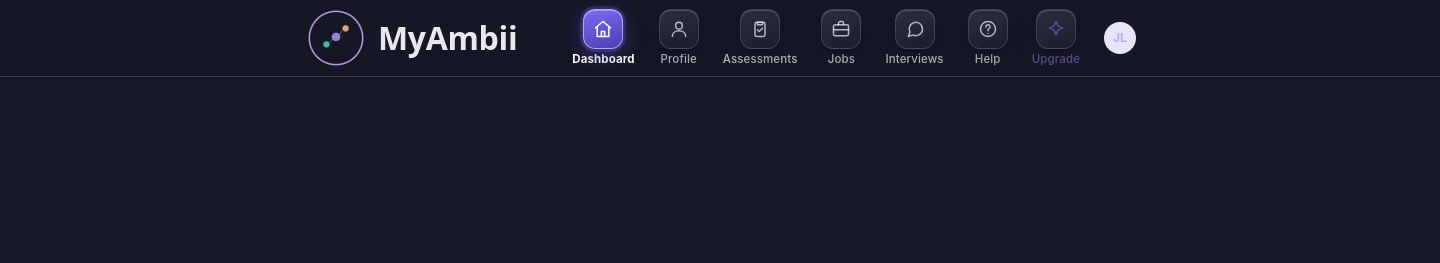
it: CandidateNav › the account menu contains Account, Help and Log out, under the candidate's own name
What coordinates should you click on to do the following:
click the button with aria-label "Jordan Lee menu"
I would click on:
 (1120, 38)
Its box is [1104, 22, 1136, 54].
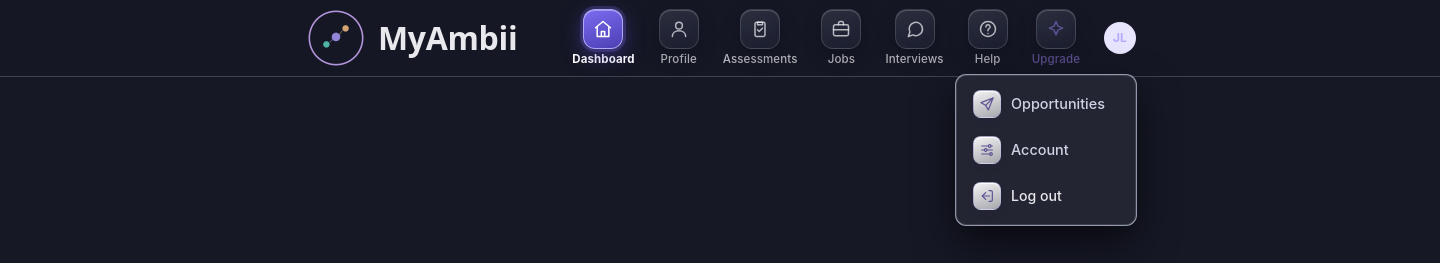
Check: the menu item "Log out" is shown, box [963, 174, 1129, 218]
